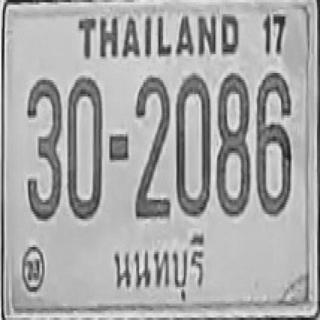N00: (66, 75, 102, 219), (175, 73, 211, 216)
N02: (134, 75, 170, 219)
N03: (25, 76, 61, 220)
N06: (256, 70, 292, 214)
N08: (215, 72, 250, 215)
P37: (103, 222, 208, 304)
